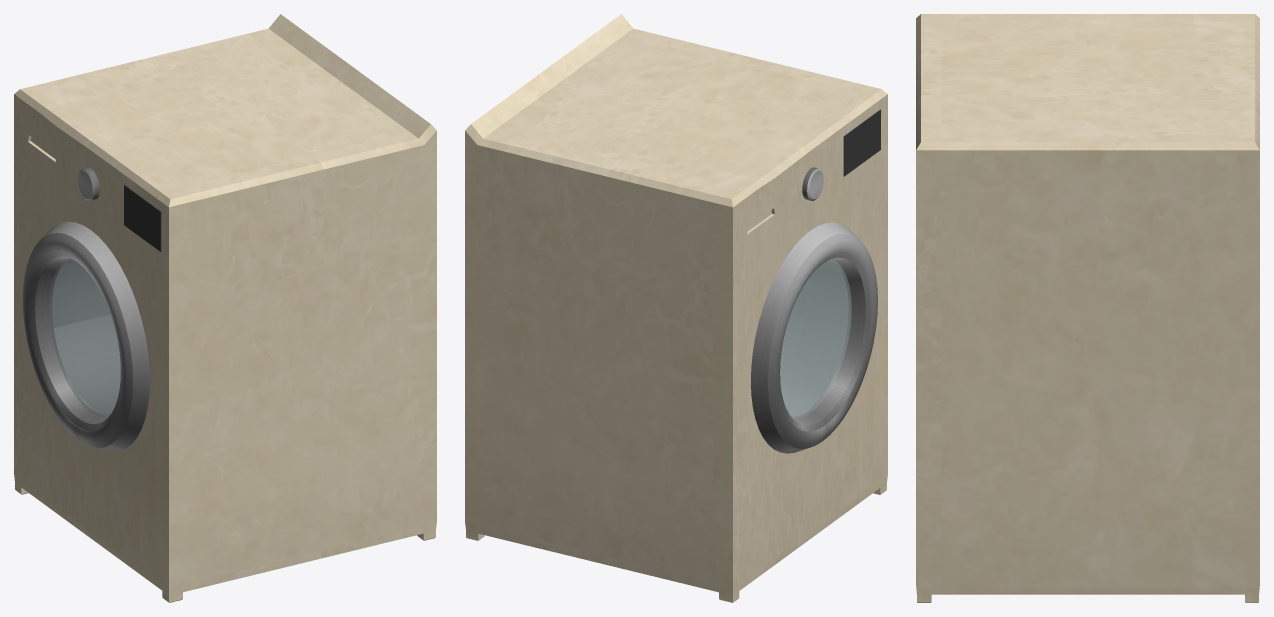
File: Lavadora.fbx
3 views of the same model, side by side, from view 1: azimuth 30°, elevation 25°; view 2: azimuth 150°, elevation 25°; view 3: azimuth 270°, elevation 25° (orthographic). The views are drawn at different scales.
Visible parts, largest first — view 1: Cube, Torus, Cylinder, Cube.001, Cylinder.002; view 2: Cube, Torus, Cylinder, Cube.001, Cylinder.002; view 3: Cube.
Part boxes in pixels (x1,y1,x2,y2): Cube: (14, 14, 436, 602); Torus: (23, 221, 149, 452); Cylinder: (49, 258, 120, 416); Cube.001: (124, 185, 161, 251); Cylinder.002: (78, 167, 99, 200); Cube: (465, 14, 887, 602); Torus: (751, 222, 877, 453); Cylinder: (780, 259, 851, 417); Cube.001: (843, 109, 880, 176); Cylinder.002: (802, 167, 823, 200); Cube: (916, 14, 1259, 602).
Size of the model in its own units: 121 by 168 by 114.
Materials: 7 (5 with a texture image).
